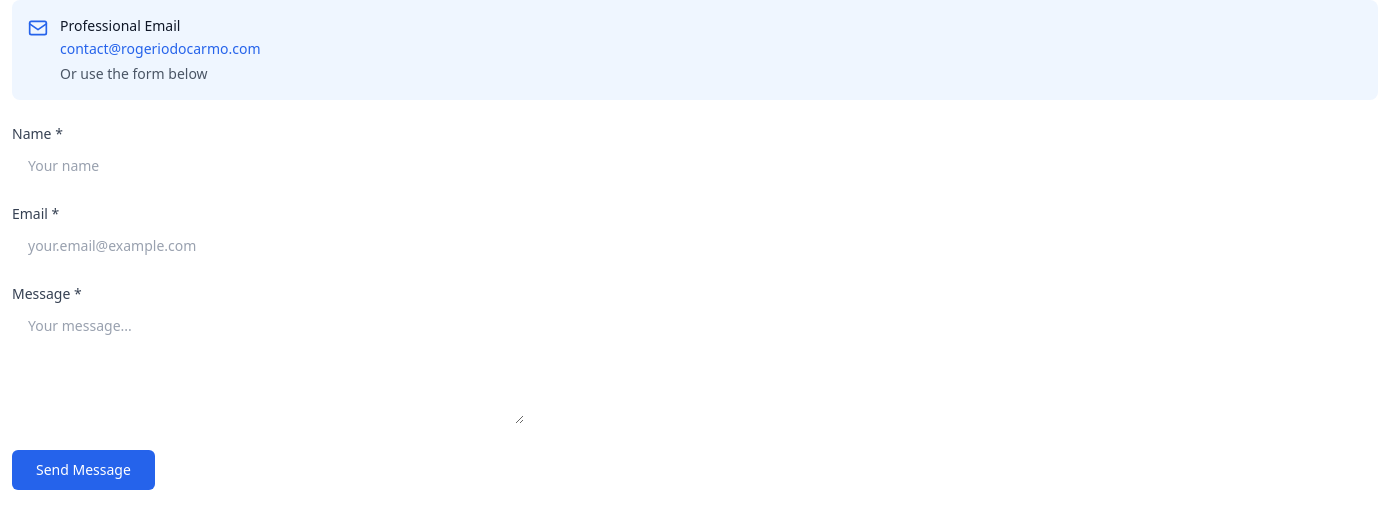
Scenario: ContactForm Integration Tests › Complete form submission flow › validates individual fields on blur
// Fill email with invalid value and blur
Step 1. Type "invalid-email" into the field labelled "Email *" → (268, 246), box [12, 228, 524, 264]
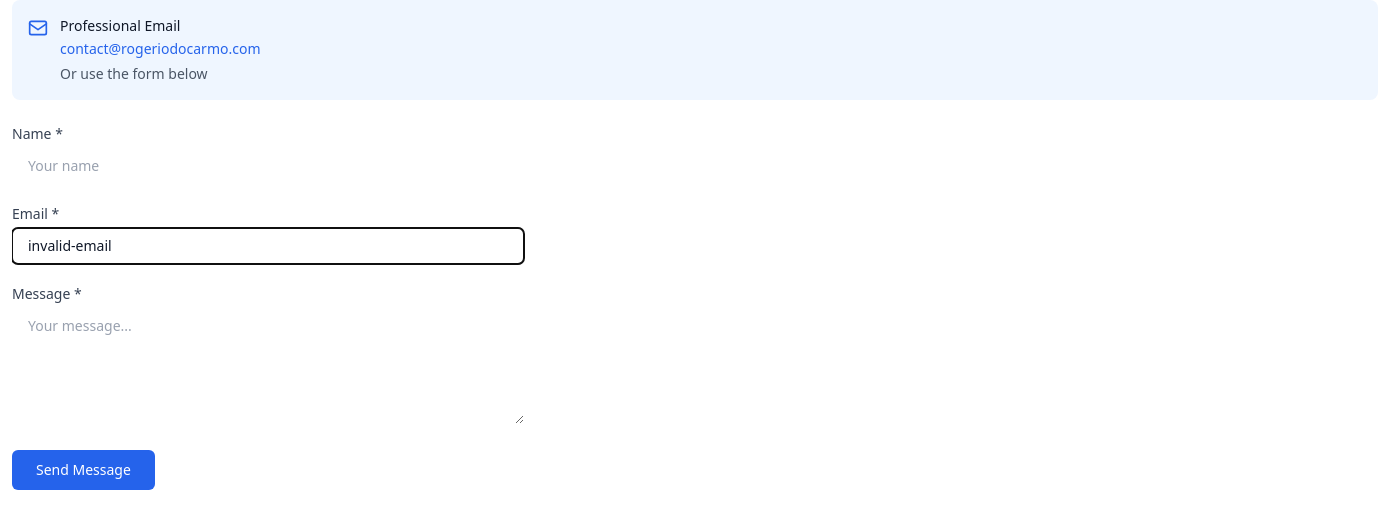
Step 2. Press Tab
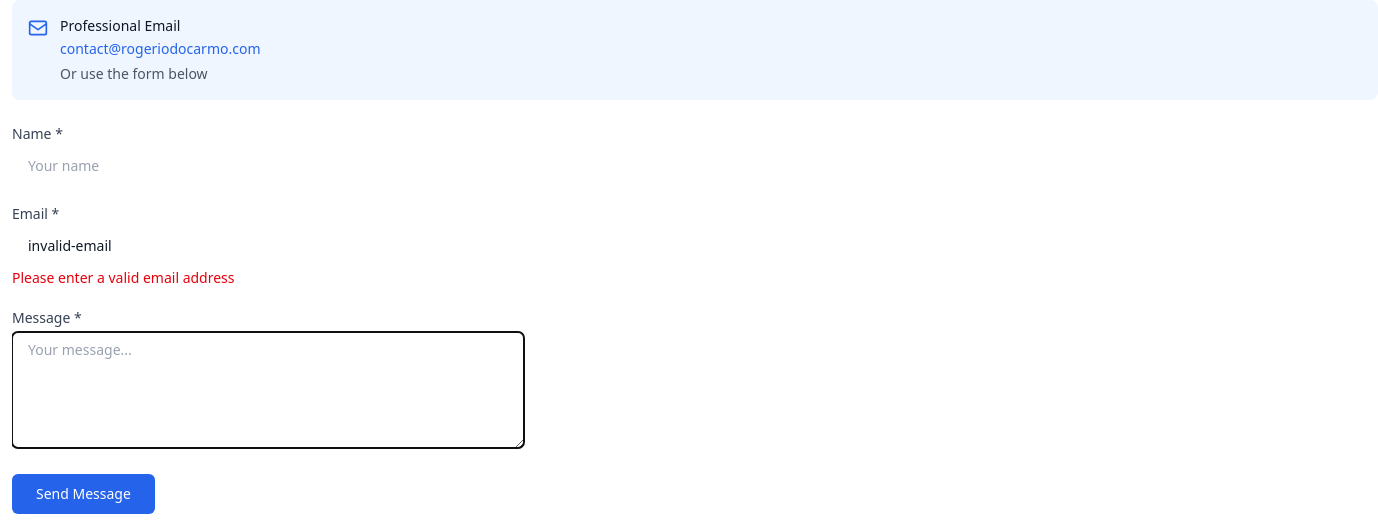
Result: the text "Please enter a valid email address" is shown at [12, 268, 234, 287]
